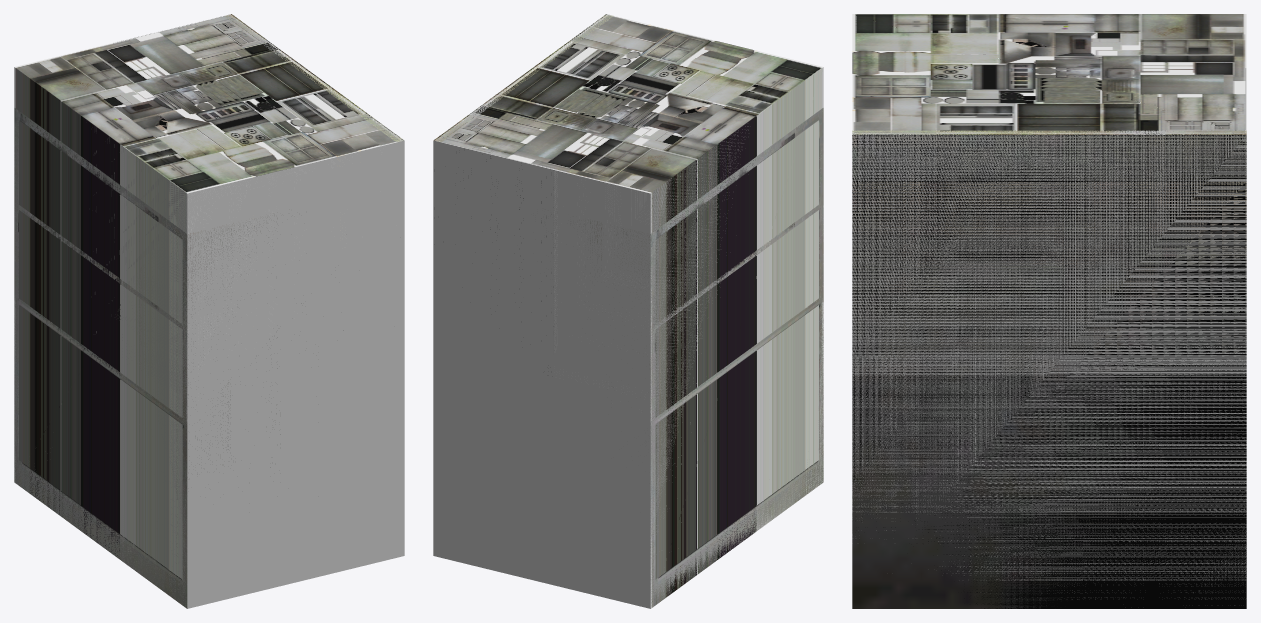
The model's file is counter_top_03.DAE.
3 renders of one model, left to right at view 1: azimuth 30°, elevation 25°; view 2: azimuth 150°, elevation 25°; view 3: azimuth 270°, elevation 25°, orthographic. The views are drawn at different scales.
Visible parts, largest first — view 1: colbox-1, bounds, counter_top_three100; view 2: colbox-1, bounds, counter_top_three100; view 3: colbox-1, counter_top_three100, bounds.
Boxes of the visible parts, box(x1,y1,x2,y2) form: colbox-1: box(14, 14, 402, 605); bounds: box(45, 127, 404, 608); counter_top_three100: box(14, 14, 404, 608); colbox-1: box(434, 14, 823, 608); bounds: box(433, 126, 818, 608); counter_top_three100: box(433, 14, 823, 605); colbox-1: box(852, 14, 1246, 608); counter_top_three100: box(852, 130, 1246, 608); bounds: box(852, 135, 1246, 605).
Size of the model in its own units: 63.93 by 88.07 by 117.
